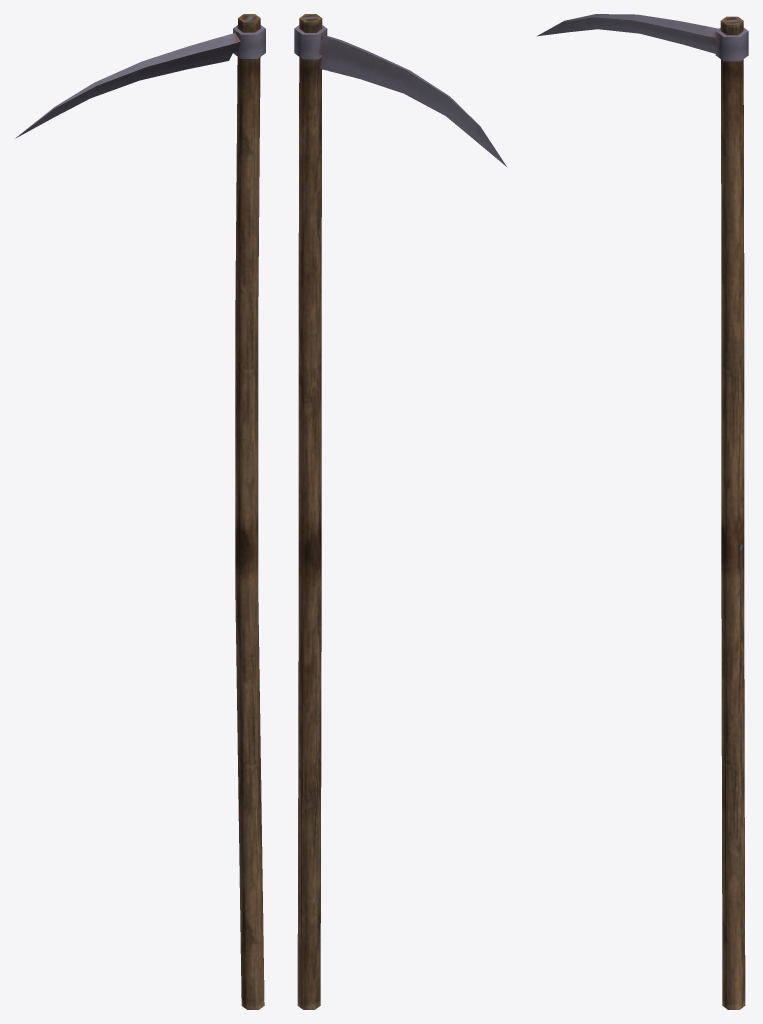
The model's file is harrow.fbx.
The picture shows the model from 3 angles, left to right: view 1: azimuth 30°, elevation 25°; view 2: azimuth 150°, elevation 25°; view 3: azimuth 330°, elevation 25°; orthographic projection.
Visible parts, largest first — view 1: Scythe_001.002; view 2: Scythe_001.002; view 3: Scythe_001.002.
Boxes of the visible parts, left/top/right/bottom form: Scythe_001.002: left=15, top=14, right=265, bottom=1009; Scythe_001.002: left=294, top=14, right=507, bottom=1009; Scythe_001.002: left=537, top=14, right=748, bottom=1009.
Bounding box in the file's own units: 43.76 × 181 × 9.15.
1 material, 1 textured.
